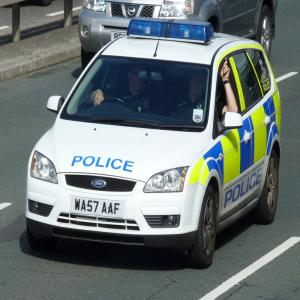Vehicle-registration-plate: (70, 198, 125, 220), (112, 32, 128, 42)
